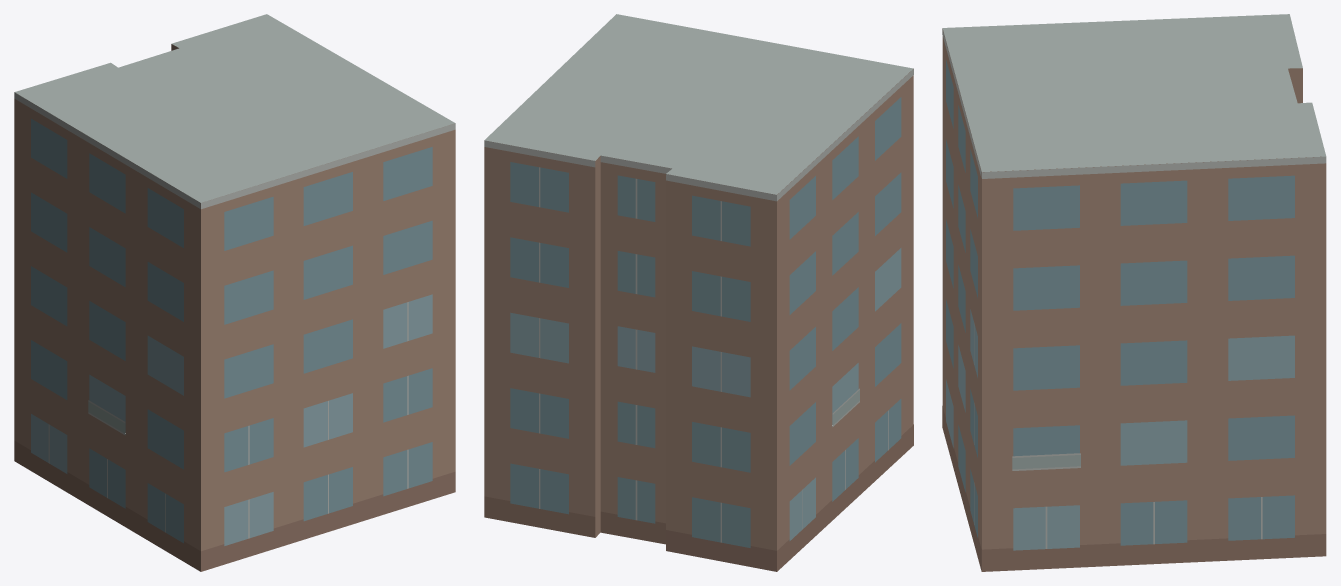
Rendered from survey-upis-33011297.glb.
The picture shows the model from 3 angles, left to right: view 1: azimuth 30°, elevation 25°; view 2: azimuth 150°, elevation 25°; view 3: azimuth 270°, elevation 25°; orthographic projection. The views are drawn at different scales.
Parts seen in each view (by area): view 1: survey-upis-33011297.tmp; view 2: survey-upis-33011297.tmp; view 3: survey-upis-33011297.tmp.
Part boxes in pixels (bbox=[...]): survey-upis-33011297.tmp: bbox=[14, 14, 455, 571]; survey-upis-33011297.tmp: bbox=[484, 14, 913, 571]; survey-upis-33011297.tmp: bbox=[942, 14, 1326, 571].
Size of the model in its own units: 11.97 by 14.1 by 12.28.
